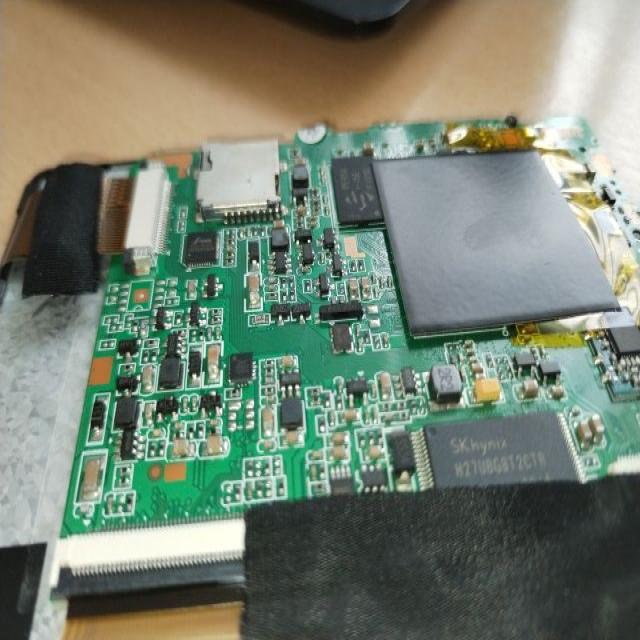capacitor: (74, 438, 114, 518), (238, 266, 267, 316), (374, 360, 394, 408)
